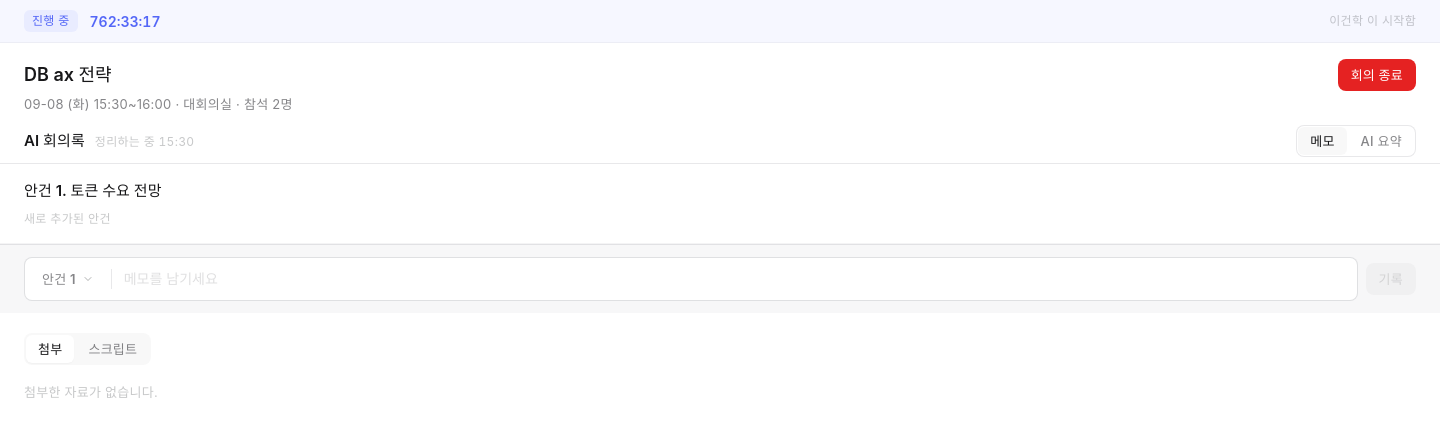
SCR-106 「진행 중」 — 회의 스트림 › 메모는 돌아온 줄만 붙는다 — 실패하면 친 것을 그대로 두고 알린다
The image size is (1440, 447).
Expected: the heading "DB ax 전략" is shown, [24,62,112,88]
Type "분기별로 다시 뽑기로." into the field labelled "메모를 남기세요" at (735, 278), box [120,262,1351,294]
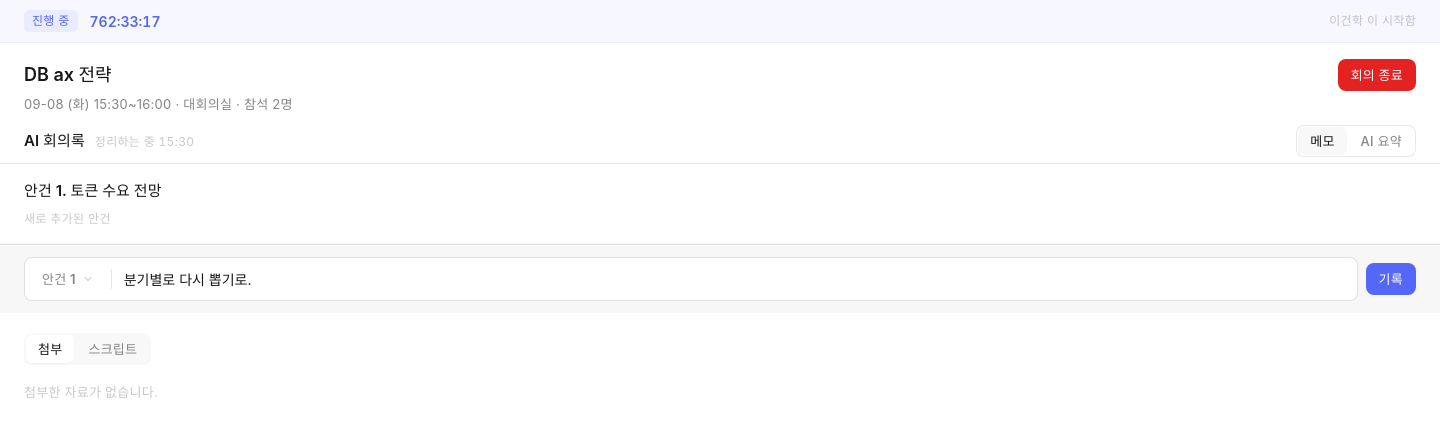
Click the button "기록" at (1391, 278), box [1366,262,1416,294]
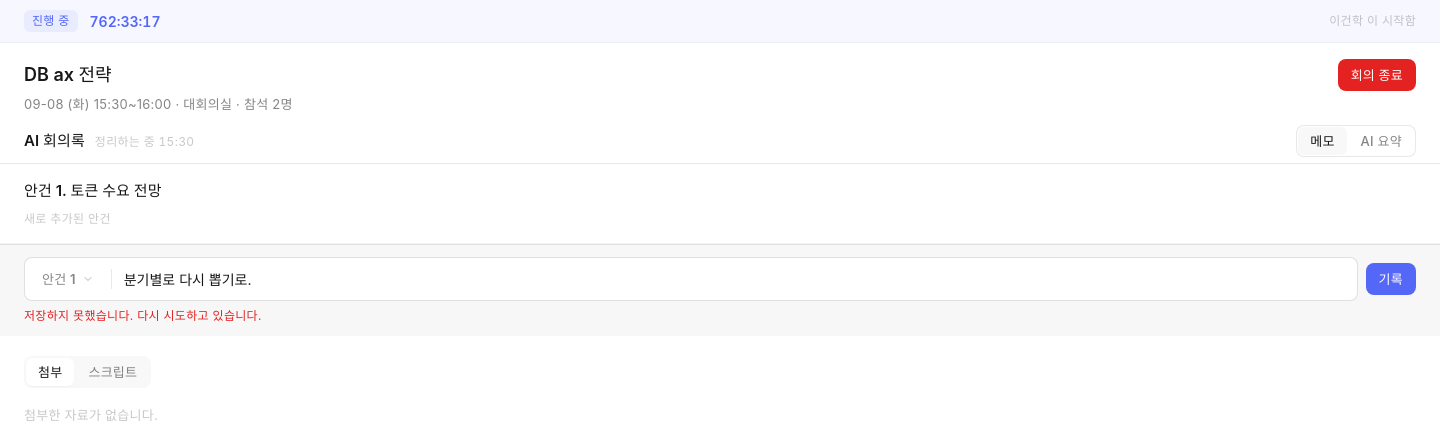
Expected: the text "저장하지 못했습니다. 다시 시도하고 있습니다." is shown, [24,308,262,322]
Click the button "기록" at (1391, 278), box [1366,262,1416,294]
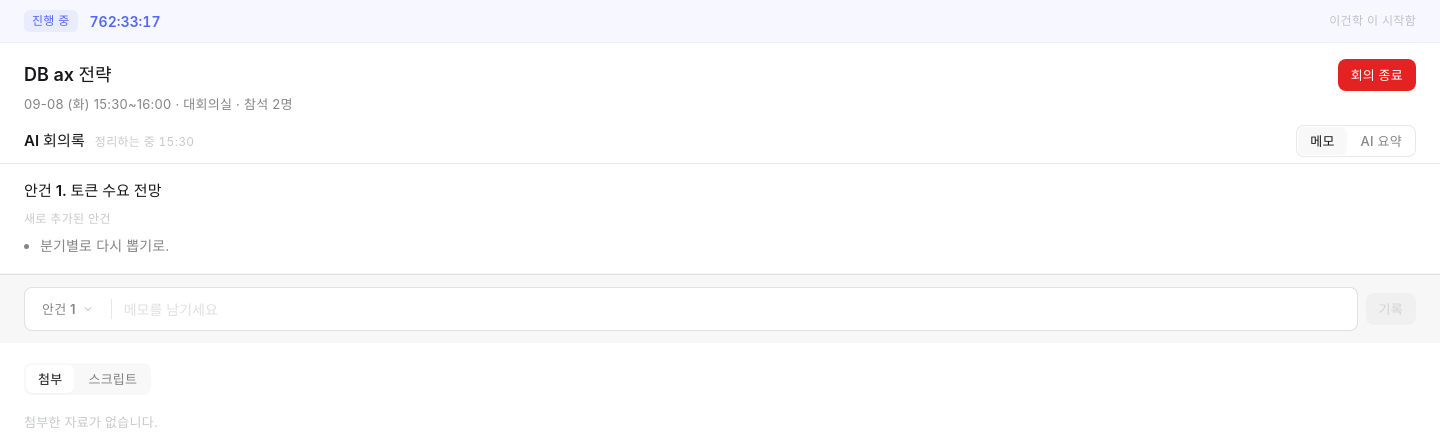
Expected: the text "분기별로 다시 뽑기로." is shown, [40,236,170,254]
// 스크립트에는 서지 않는다 (사용자 결정) — 전사만 그 자리에 선다
Click the tab "스크립트" at (113, 379), box [76,365,149,393]
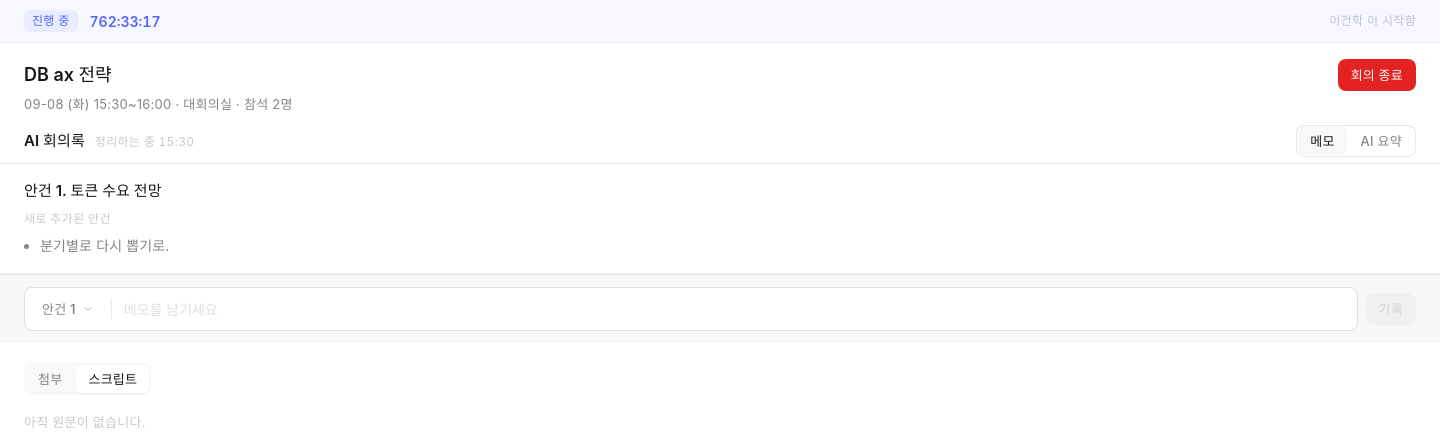
Expected: the text "아직 원문이 없습니다." is shown, [24,414,146,430]
